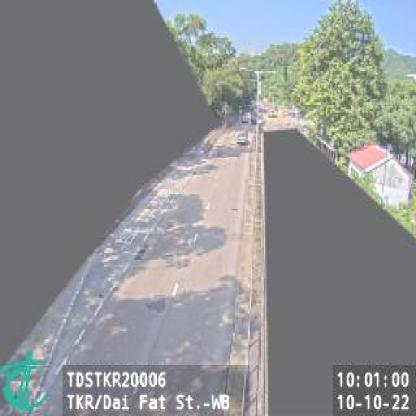Car: (238, 133, 249, 147)
